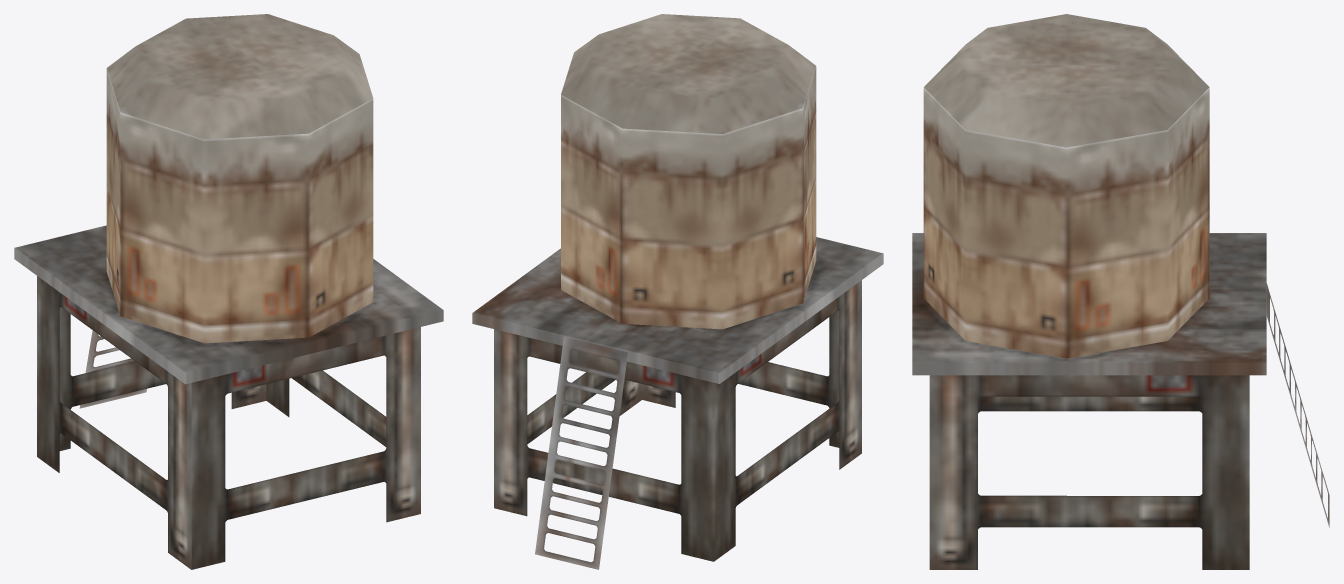
File: watertower.glb
3 views of the same model, side by side, from view 1: azimuth 30°, elevation 25°; view 2: azimuth 150°, elevation 25°; view 3: azimuth 270°, elevation 25° (orthographic). The views are drawn at different scales.
Parts seen in each view (by area): view 1: WaterTower; view 2: WaterTower; view 3: WaterTower.
Part boxes in pixels (<box>): WaterTower: <box>14,14,443,569</box>; WaterTower: <box>472,14,883,569</box>; WaterTower: <box>912,14,1329,569</box>.
Size of the model in its own units: 5.82 by 9.37 by 7.86.
Materials: 1 (1 with a texture image).
